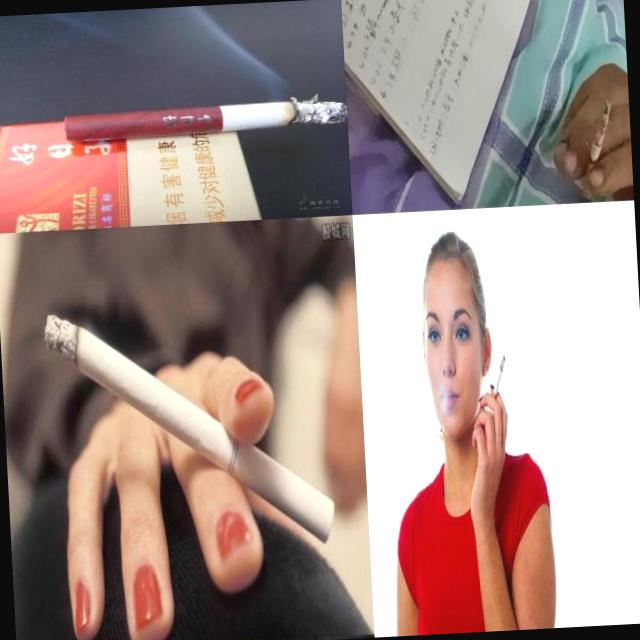cigarette: (43, 300, 337, 558), (64, 98, 348, 142), (577, 99, 618, 200), (488, 354, 509, 406)
